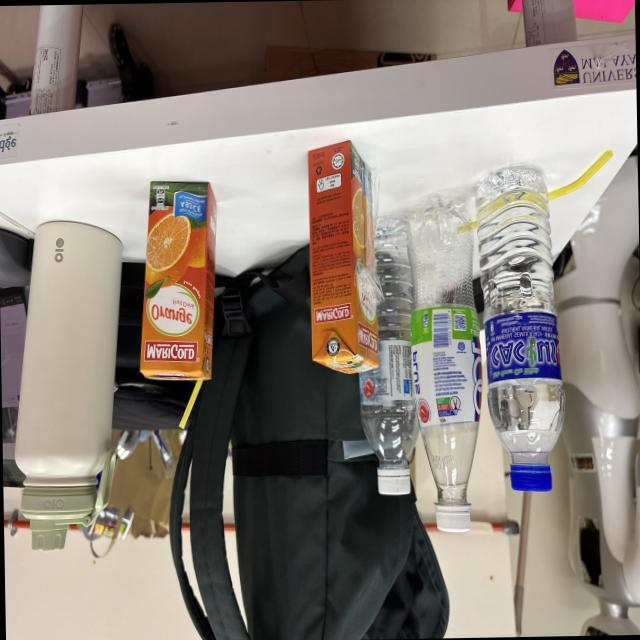drink_carton: (133, 180, 224, 434), (304, 134, 381, 379)
plastic_bottle: (471, 159, 571, 499), (402, 175, 487, 548), (347, 207, 428, 512)
